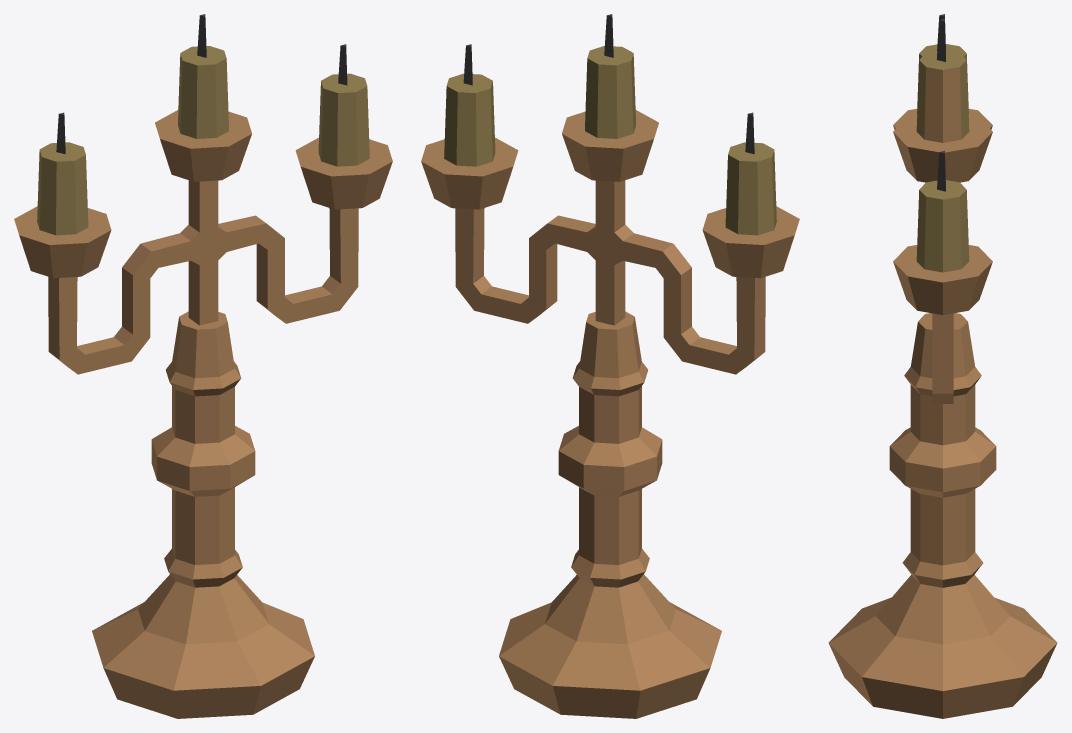
The model's file is OrnateCandleHolder.fbx.
3 views of the same model, side by side, from view 1: azimuth 30°, elevation 25°; view 2: azimuth 150°, elevation 25°; view 3: azimuth 270°, elevation 25° (orthographic).
Visible parts, largest first — view 1: OrnateCandleHolder; view 2: OrnateCandleHolder; view 3: OrnateCandleHolder.
Part boxes in pixels (x1,y1,x2,y2): OrnateCandleHolder: [14, 14, 392, 718]; OrnateCandleHolder: [421, 14, 799, 718]; OrnateCandleHolder: [828, 14, 1057, 718].
Bounding box in the file's own units: 0.7254 × 0.3938 × 1.25.
